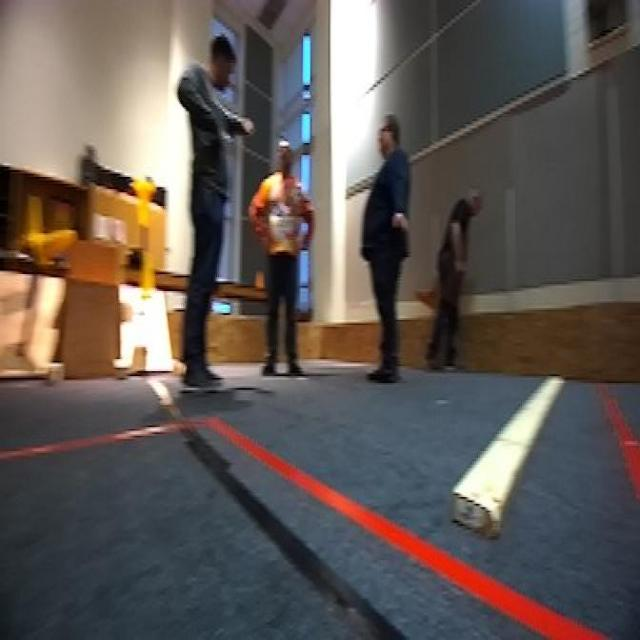frc_cone: (27, 221, 73, 271), (132, 177, 156, 226), (21, 197, 44, 247), (137, 252, 155, 303)
